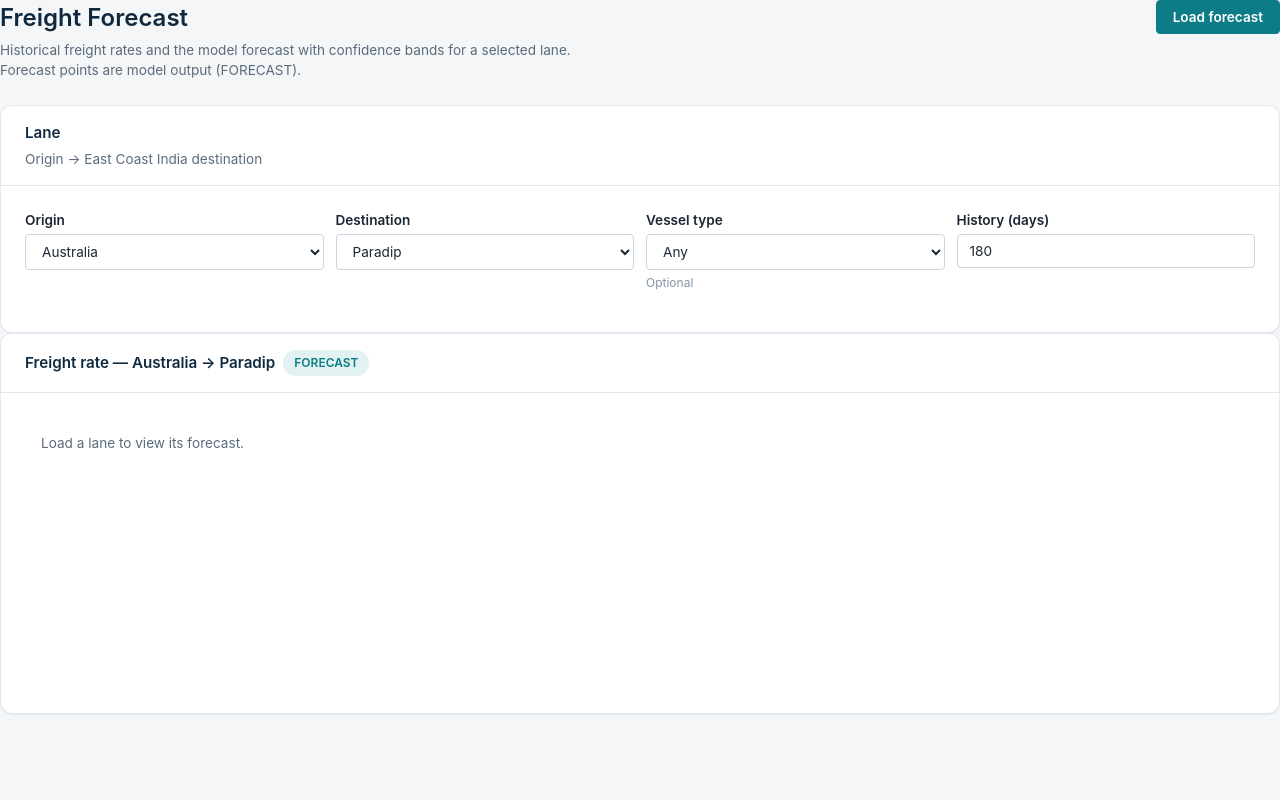
Scenario: FreightForecastPage › loads a lane and renders the forecast chart + points table
This screenshot has width=1280, height=800.
Click the button "Load forecast".
click(1218, 17)  # box [1156,0,1279,34]
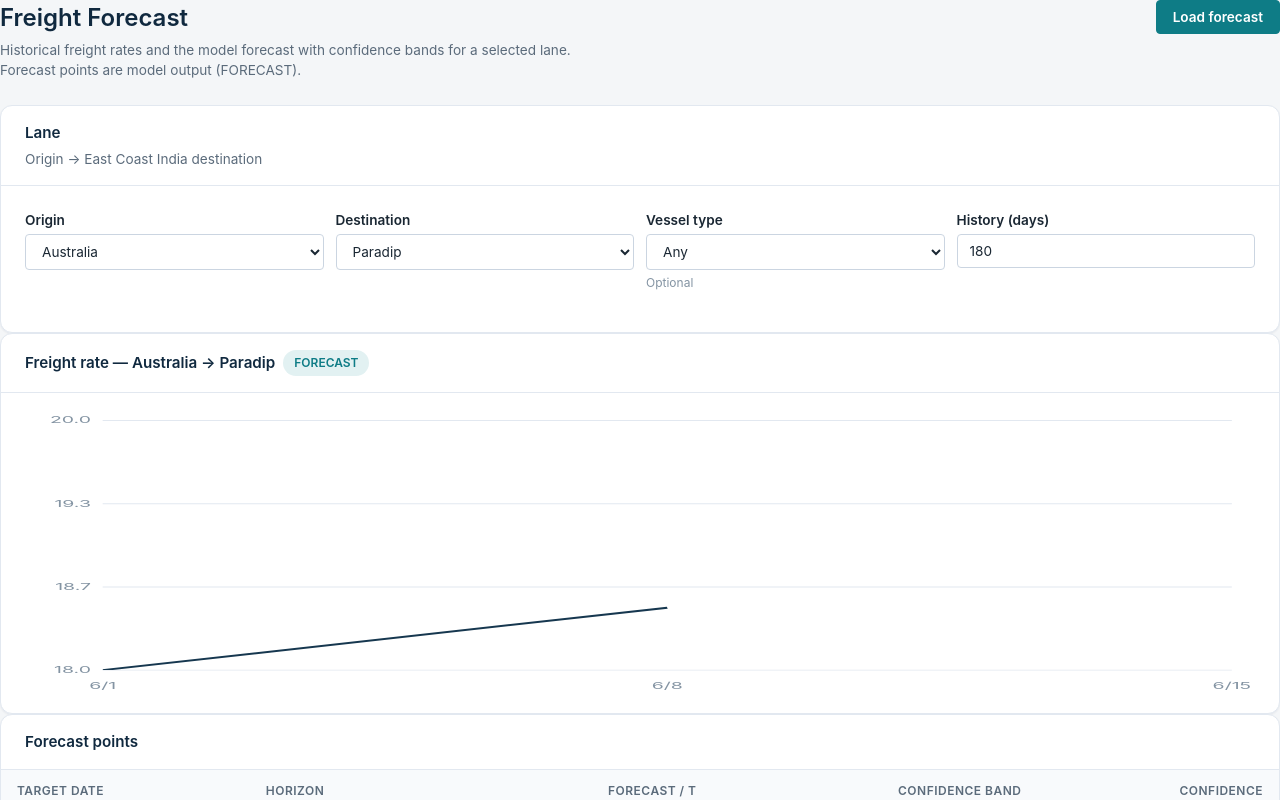
Expected: the text "FORECAST" is shown, [283,350,370,376]
Now the picture named "Line chart" is shown, box [17,408,1263,696]
